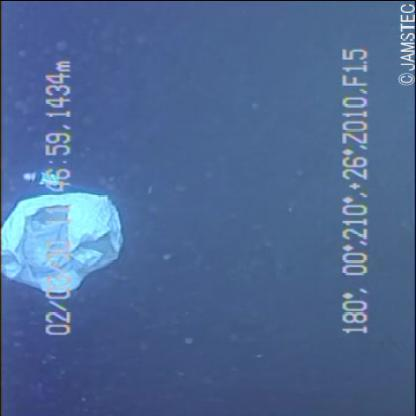Rác: (1, 185, 126, 294)
